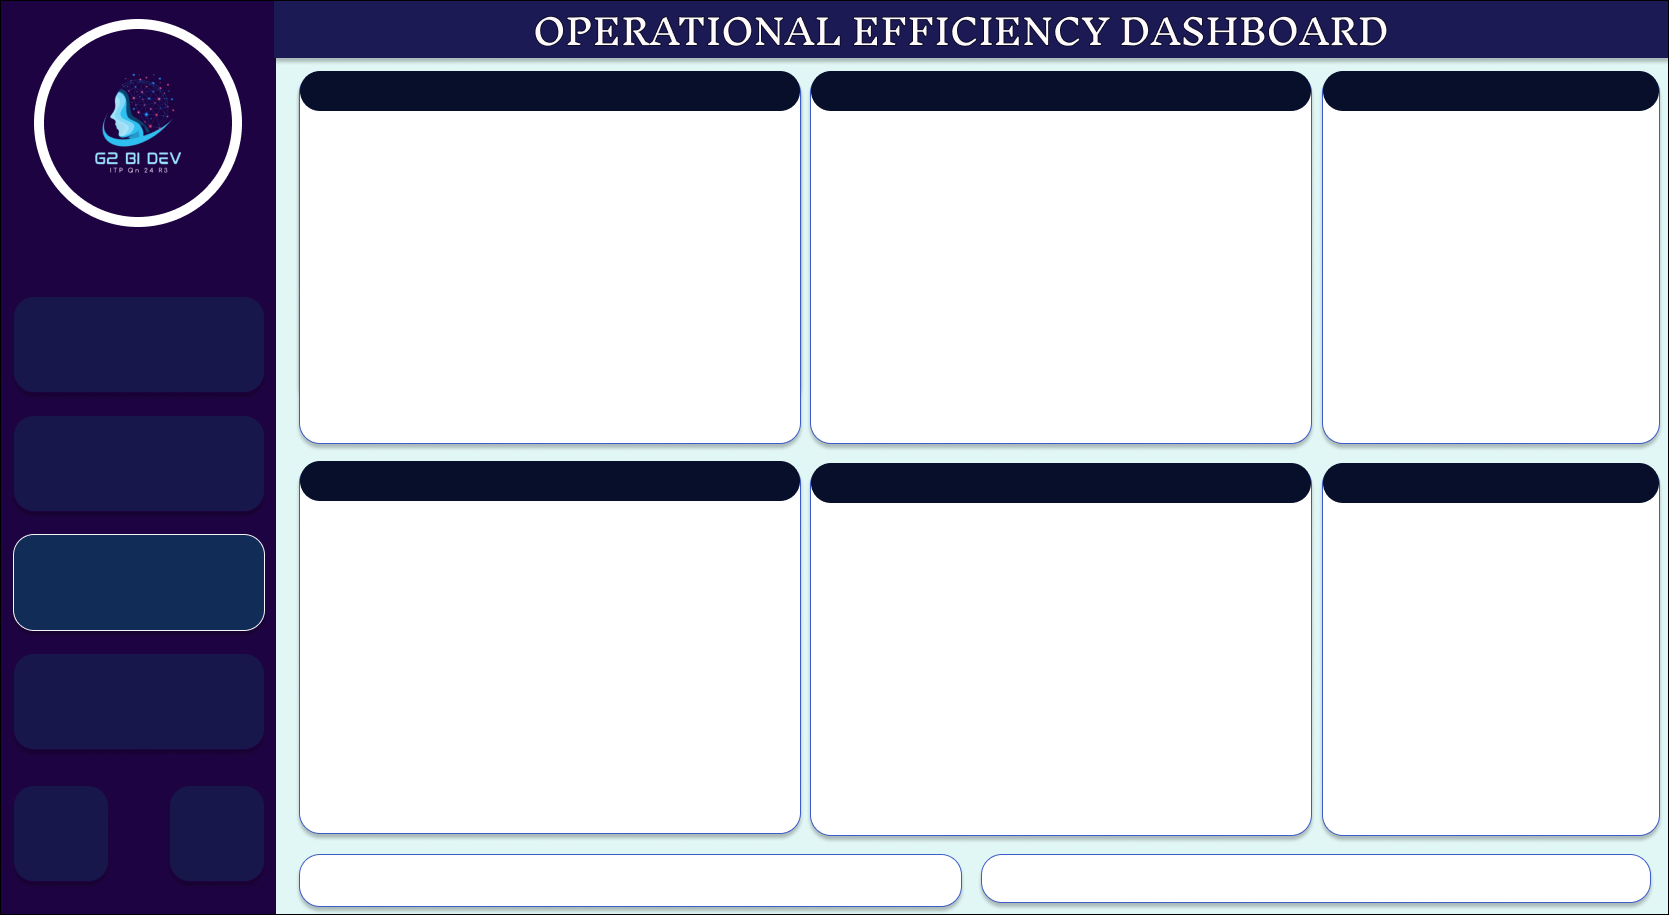

What the dashboard file says about the page in this screenshot:
{"tool":"tableau","page":{"name":"Operational-dashboard","canvas":[1700,950],"ordinal":3},"visuals":[{"type":"image","param":"C:/Users/mahmo/OneDrive/Desktop/Sales/background/New folder (2)/Operational.png","box":[8,8,1684,934]},{"type":"text","box":[325,84,462,36]},{"type":"text","box":[839,84,462,36]},{"type":"text","box":[1350,84,309,36]},{"type":"worksheet","title":"3.shipMode-real day | Schedule","mark":"Pie","rows":["Calculation_348466078768136199","Calculation_348466078768136199"],"box":[1334,123,336,316]},{"type":"worksheet","title":"3.order-status-real day | Schedule","mark":"Automatic","box":[315,124,489,321]},{"type":"worksheet","title":"3.store-state-real day | Schedule","mark":"Bar","rows":["Calculation_182395842700795904","Calculation_182395842700795904"],"cols":["Store_State"],"box":[824,124,500,312]},{"type":"dashboard-object","box":[108,322,153,70]},{"type":"image","param":"C:/Users/mahmo/OneDrive/Desktop/Sales-project/ICONS/sales-dashboard.png","box":[31,324,70,65]},{"type":"dashboard-object","box":[108,442,153,70]},{"type":"image","param":"C:/Users/mahmo/OneDrive/Desktop/Sales-project/ICONS/customer-dashboard.png","box":[34,443,70,65]},{"type":"text","box":[338,475,434,36]},{"type":"text","box":[844,476,462,36]},{"type":"text","box":[1348,476,309,36]},{"type":"worksheet","title":"3.market-real day | Schedule","mark":"Bar","rows":["Calculation_182395842700795904"],"cols":["Market_Name"],"box":[825,515,495,318]},{"type":"worksheet","title":"3.Top 5 Region by Risk","mark":"Pie","rows":["Calculation_348466078768136199","Calculation_348466078768136199"],"box":[1337,515,332,310]},{"type":"worksheet","title":"3.store-raturn-rate","mark":"Bar","rows":["Calculation_1244400927306526721","Calculation_1244400927306526721"],"cols":["Store_State"],"box":[312,516,499,310]},{"type":"image","param":"C:/Users/mahmo/OneDrive/Desktop/Sales-project/ICONS/operational-dashboard.png","box":[34,563,70,65]},{"type":"dashboard-object","box":[108,563,153,69]},{"type":"image","param":"C:/Users/mahmo/OneDrive/Desktop/Sales-project/ICONS/geo-dashboard.png","box":[30,677,70,65]},{"type":"dashboard-object","box":[108,677,153,69]},{"type":"image","param":"C:/Users/mahmo/OneDrive/Desktop/Sales-project/ICONS/github-mark-white.png","box":[38,812,63,70]},{"type":"dashboard-object","box":[199,813,63,70]},{"type":"parameter","param":"[Parameters].[Parameter 1]","box":[330,870,621,44]},{"type":"filter","title":"3.store-state-real day | Schedule","param":"[federated.0a7f3eg1xpprtt1e4fdhm1t957b5].[yr:Date:ok]","box":[1009,871,633,38]}]}

Visuals, with their boxes in screenshot pixels (x1, y1, x2, y2), scaled from the page's 1700x950 canvas onto the 1669x915 screenshot:
image: (8, 8, 1661, 907)
text: (319, 81, 773, 116)
text: (824, 81, 1277, 116)
text: (1325, 81, 1629, 116)
"3.shipMode-real day | Schedule" worksheet (Pie marks): (1310, 118, 1640, 423)
"3.order-status-real day | Schedule" worksheet: (309, 119, 789, 429)
"3.store-state-real day | Schedule" worksheet (Bar marks): (809, 119, 1300, 420)
dashboard-object: (106, 310, 256, 378)
image: (30, 312, 99, 375)
dashboard-object: (106, 426, 256, 493)
image: (33, 427, 102, 489)
text: (332, 458, 758, 492)
text: (829, 458, 1282, 493)
text: (1323, 458, 1627, 493)
"3.market-real day | Schedule" worksheet (Bar marks): (810, 496, 1296, 802)
"3.Top 5 Region by Risk" worksheet (Pie marks): (1313, 496, 1639, 795)
"3.store-raturn-rate" worksheet (Bar marks): (306, 497, 796, 796)
image: (33, 542, 102, 605)
dashboard-object: (106, 542, 256, 609)
image: (29, 652, 98, 715)
dashboard-object: (106, 652, 256, 719)
image: (37, 782, 99, 850)
dashboard-object: (195, 783, 257, 850)
parameter: (324, 838, 934, 880)
"3.store-state-real day | Schedule" filter: (991, 839, 1612, 876)
